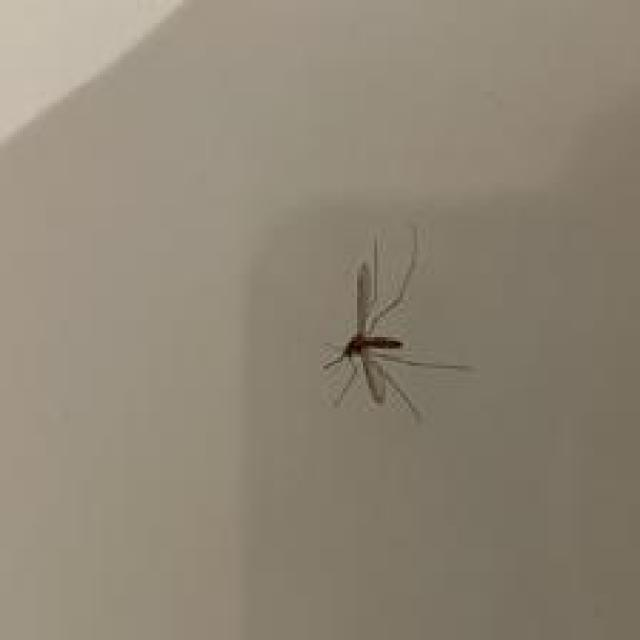Culex: (322, 225, 482, 426)
